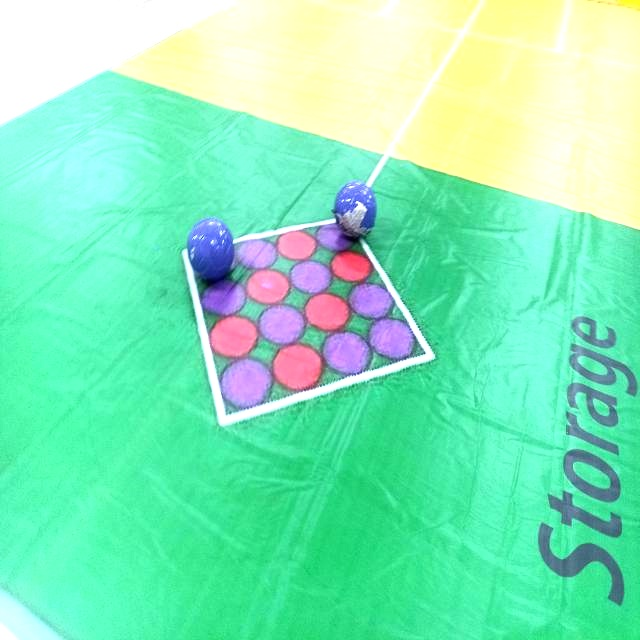purple_ball: (182, 211, 240, 285), (326, 170, 382, 245)
